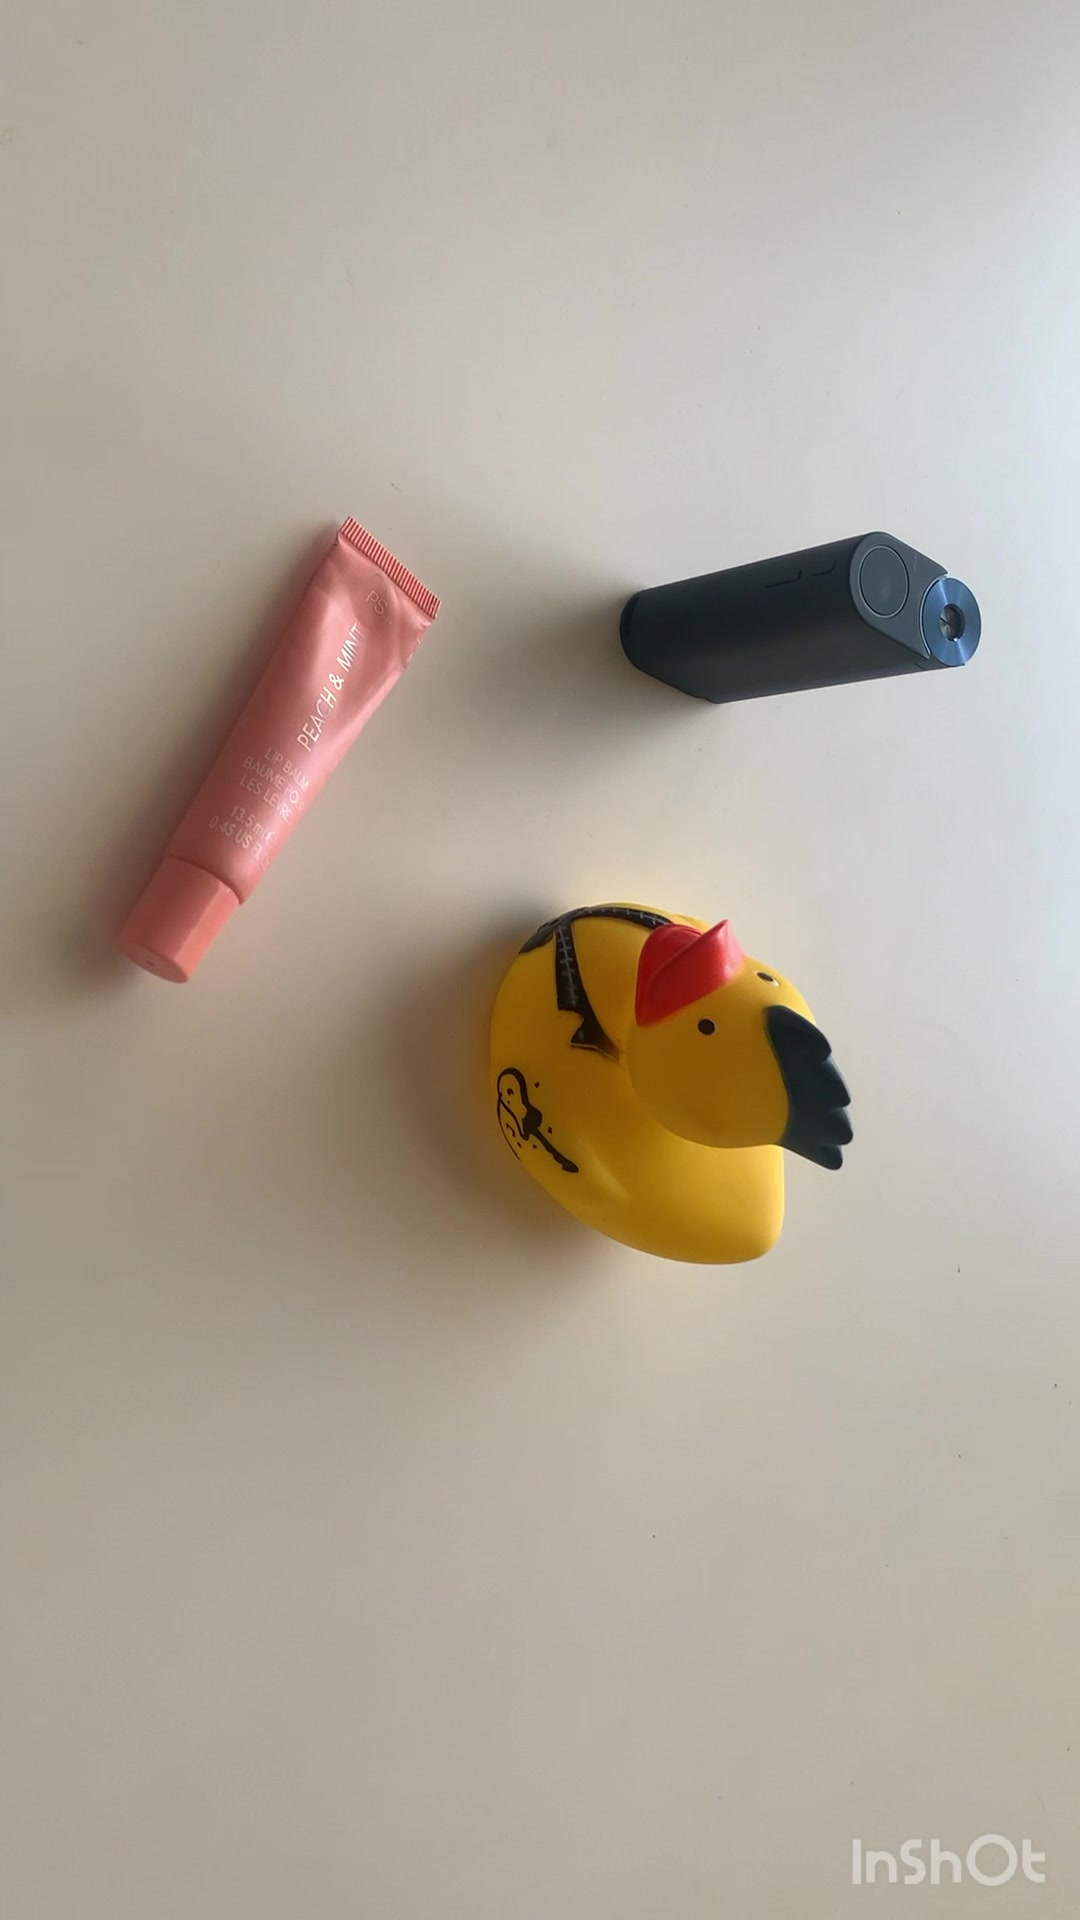duck: (485, 903, 851, 1287)
glo: (613, 534, 986, 711)
lip balm: (121, 516, 446, 998)
